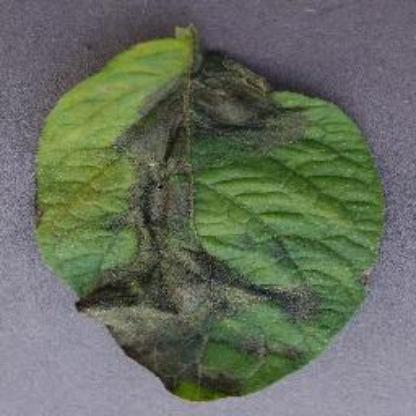Late-Blight: (41, 31, 385, 399)
